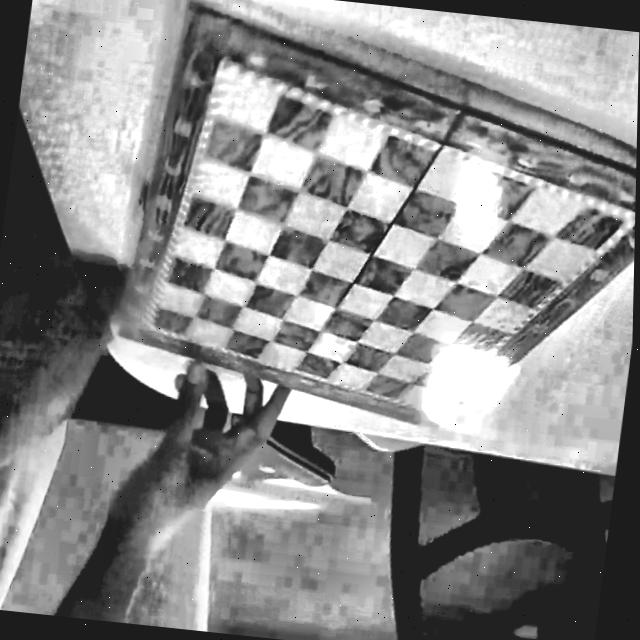chessboard: (114, 1, 636, 432)
